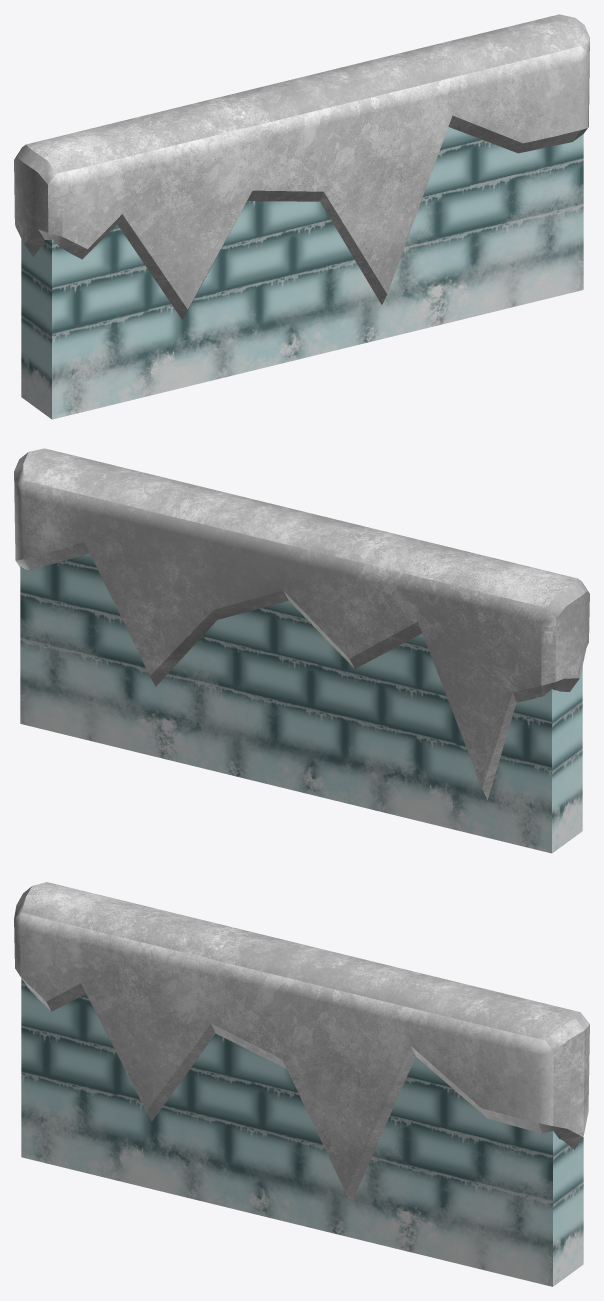
File: ms_SnowWall01.fbx
3 renders of one model, top to bottom at view 1: azimuth 30°, elevation 25°; view 2: azimuth 150°, elevation 25°; view 3: azimuth 330°, elevation 25°, orthographic.
Parts seen in each view (by area): view 1: polySurface2; view 2: polySurface2; view 3: polySurface2.
Part boxes in pixels (<box>): polySurface2: <box>14,14,589,419</box>; polySurface2: <box>14,448,589,853</box>; polySurface2: <box>14,882,589,1286</box>.
Size of the model in its own units: 1373 by 605 by 181.
